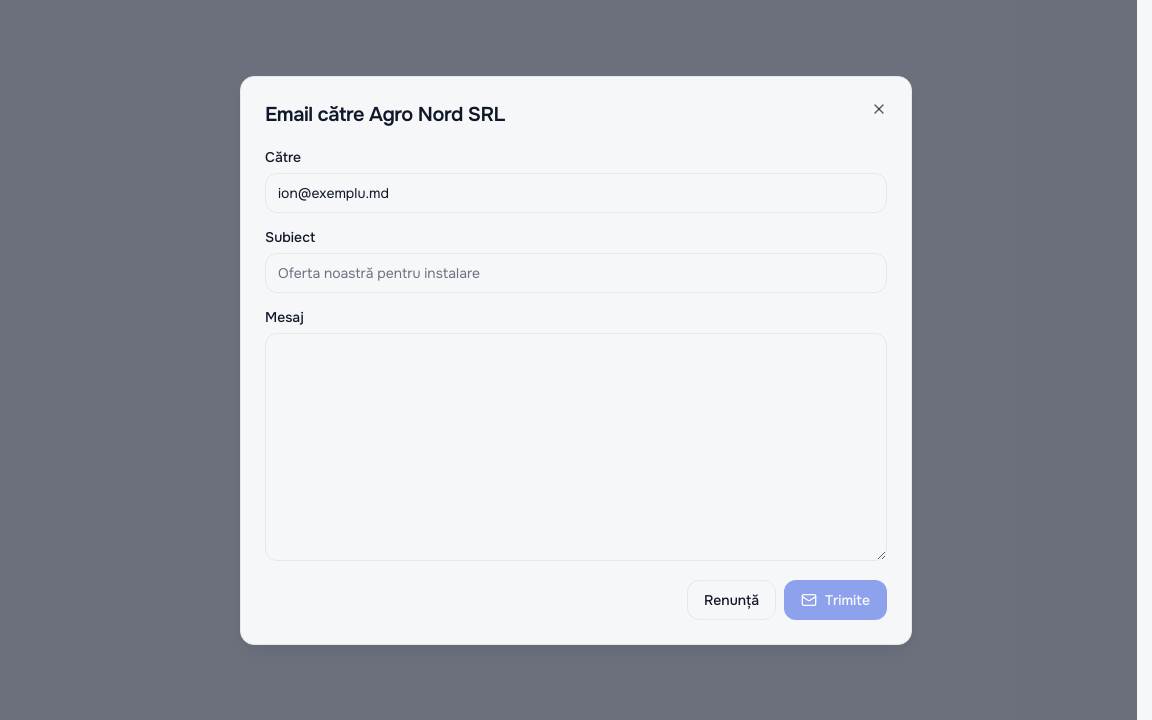
trimiterea unui email › [blocant] când emailul e BLOCAT, omul află pe loc și cu motivul
This screenshot has width=1152, height=720.
Type "Oferta" into the field labelled "Subiect" at (576, 272), box 265,252 -> 887,292
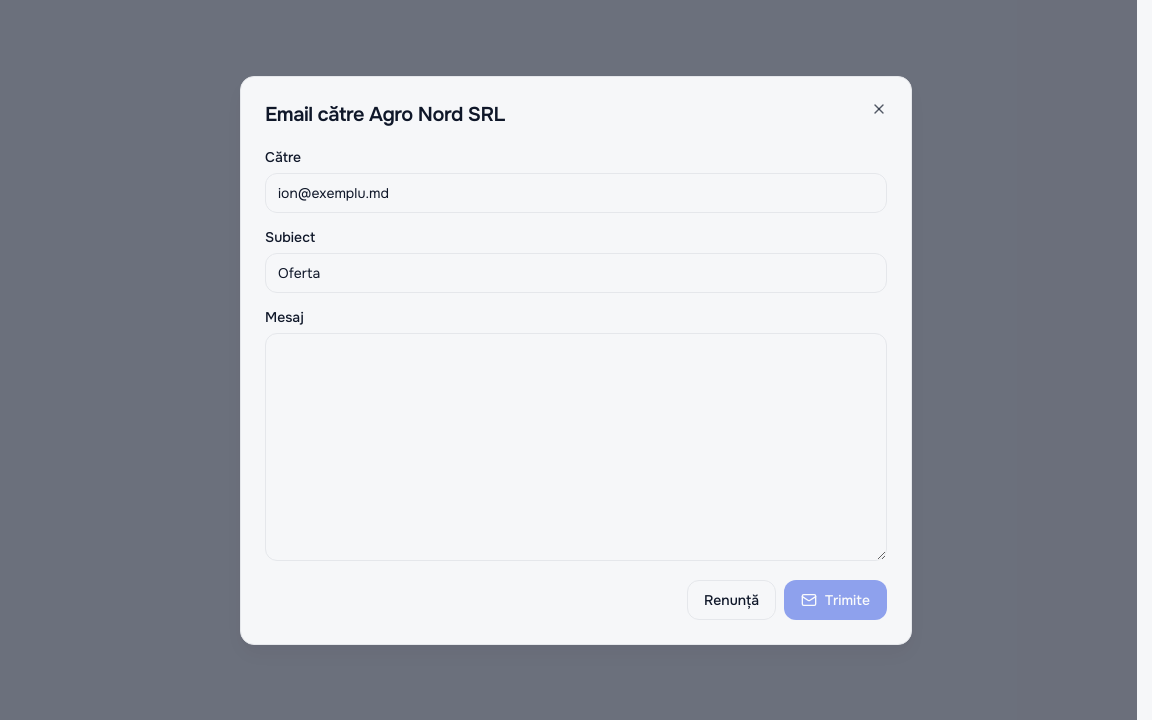
Type "Bună ziua" into the text box labelled "Mesaj" at (576, 446), box 265,332 -> 887,560
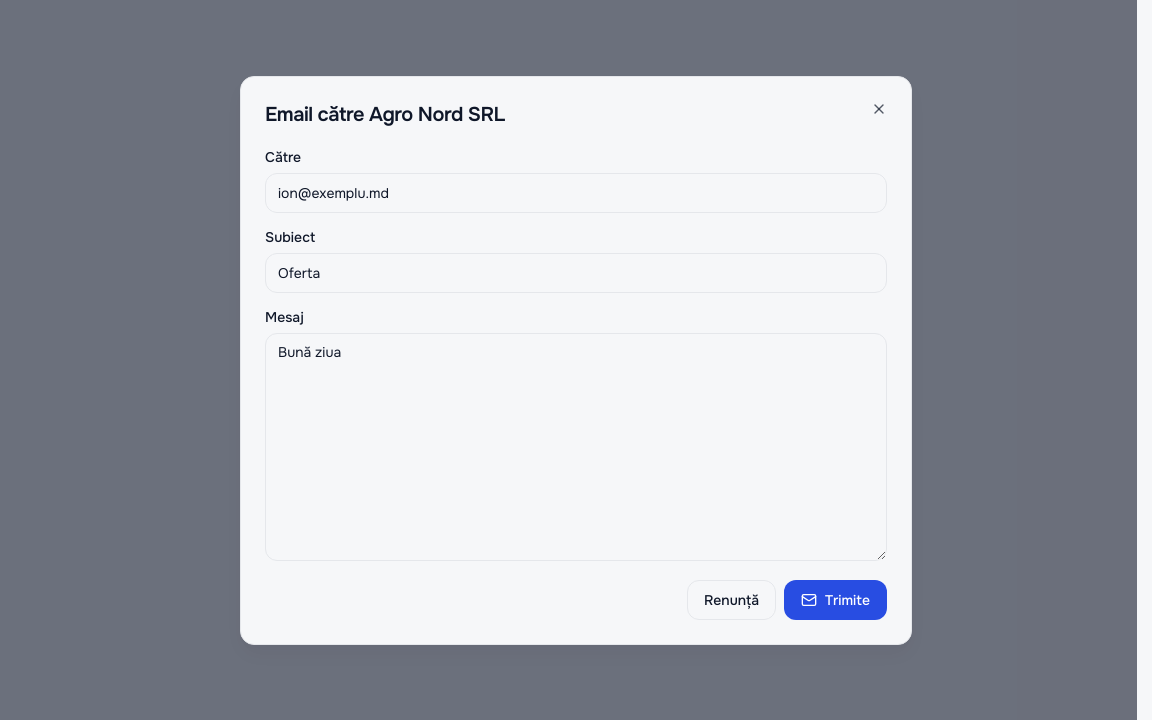
Click the button "Trimite" at (836, 600), box 784,580 -> 887,620
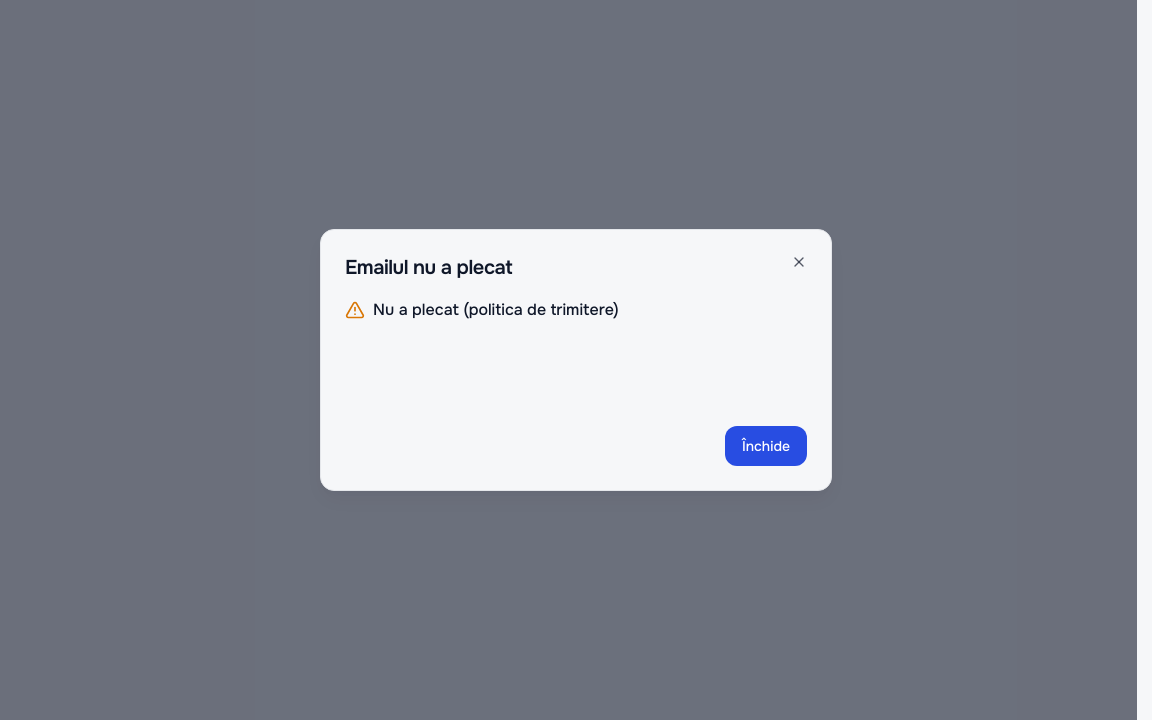
Expected: the heading "Emailul nu a plecat" is shown, 345,255 -> 512,280
